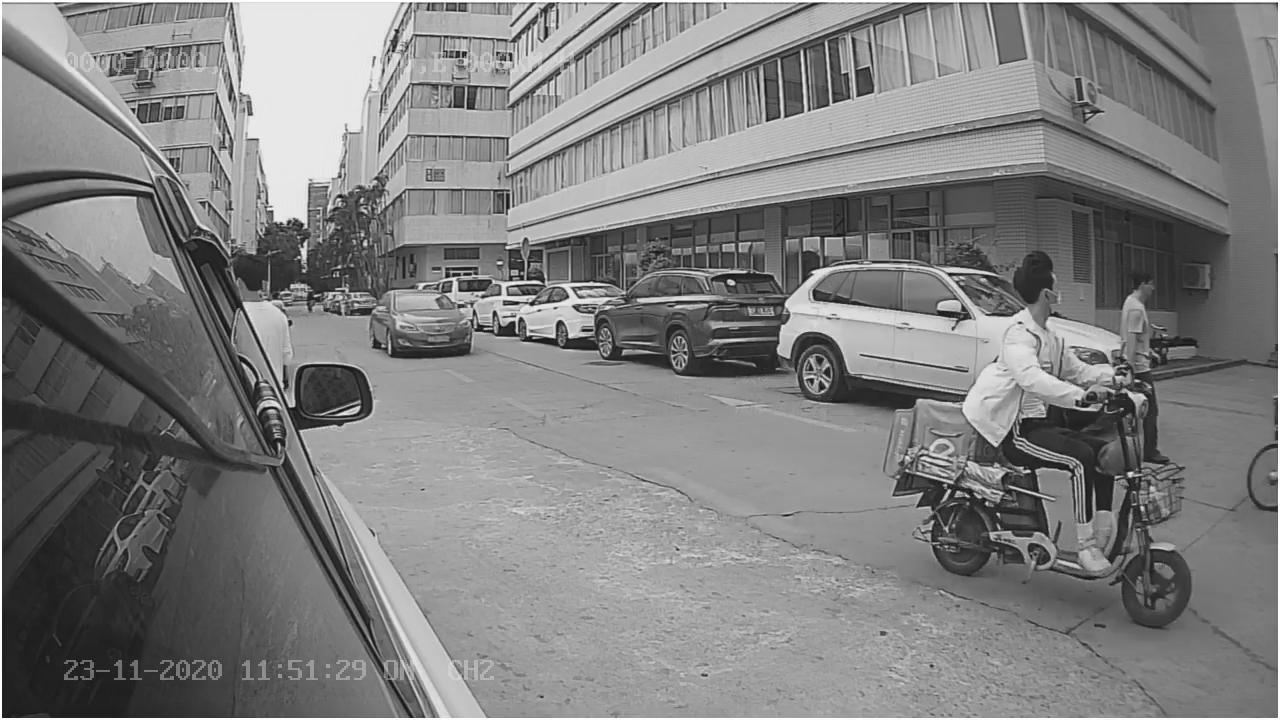person: (990, 251, 1137, 405)
